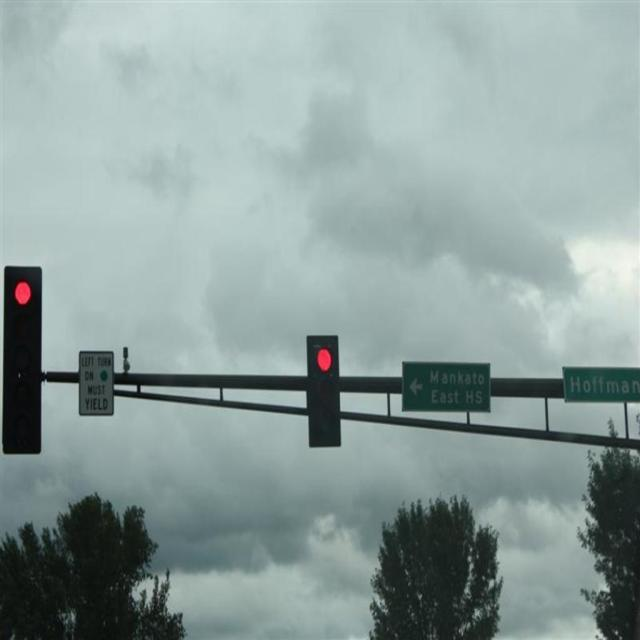traffic light: (6, 267, 41, 451), (306, 336, 341, 444)
